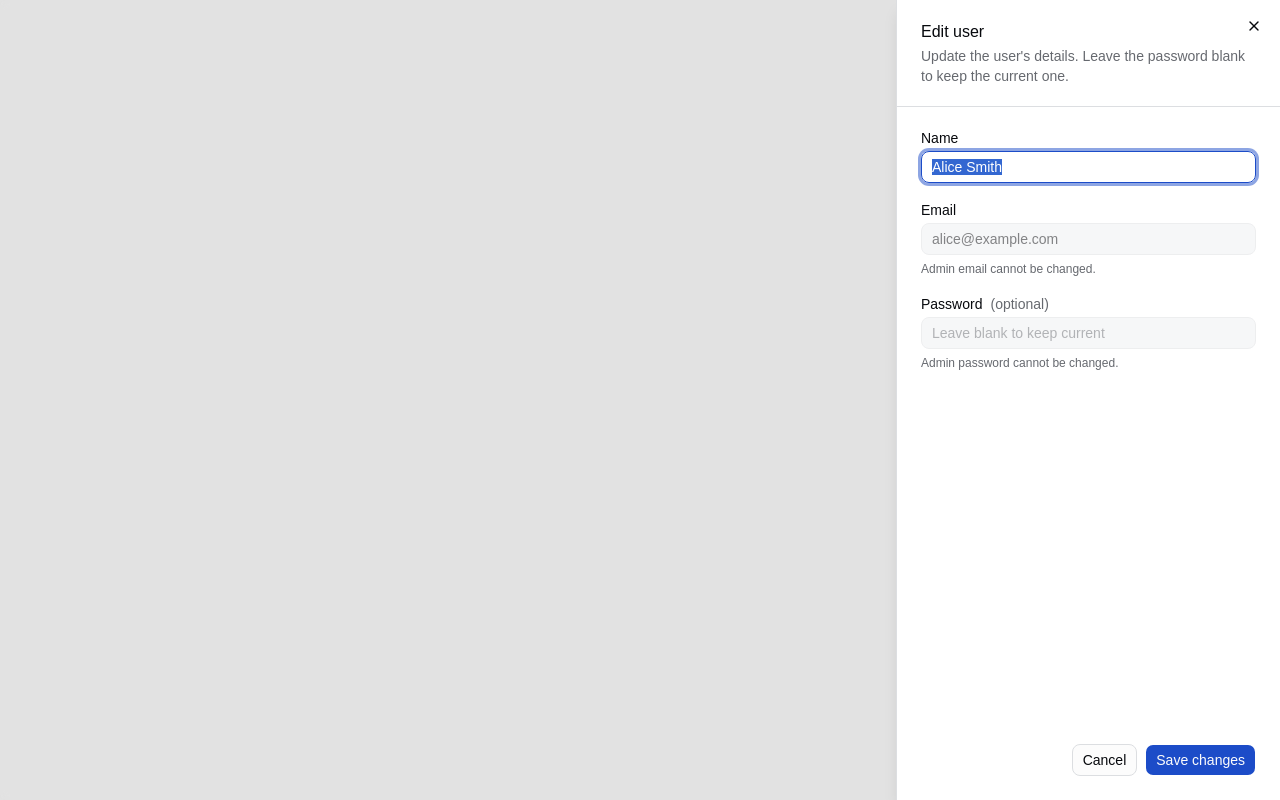
Scenario: UserDialog › edit mode (user provided) › validation › shows a required error when email is cleared
Clear the field labelled "Email" at (1088, 239), box [921,223,1256,255]
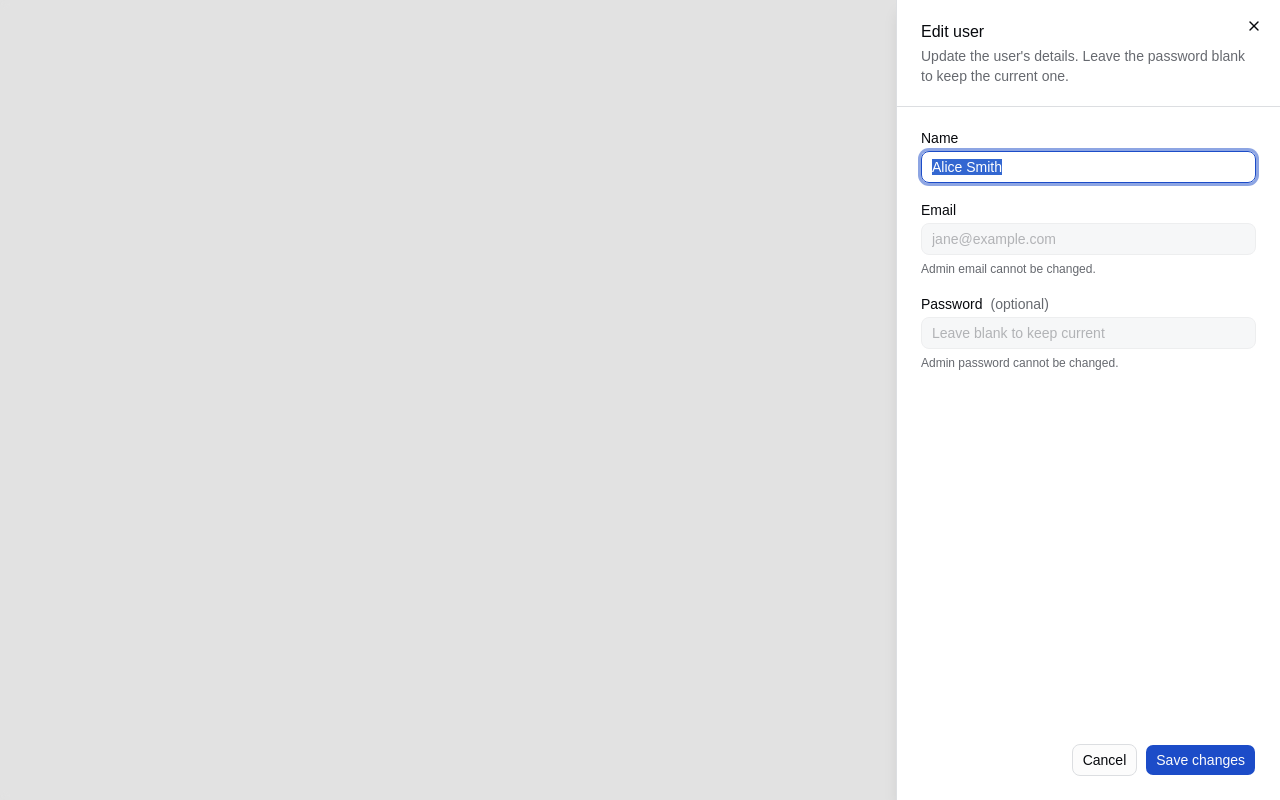
Click the button "Save changes" at (1201, 760), box [1145,744,1256,776]
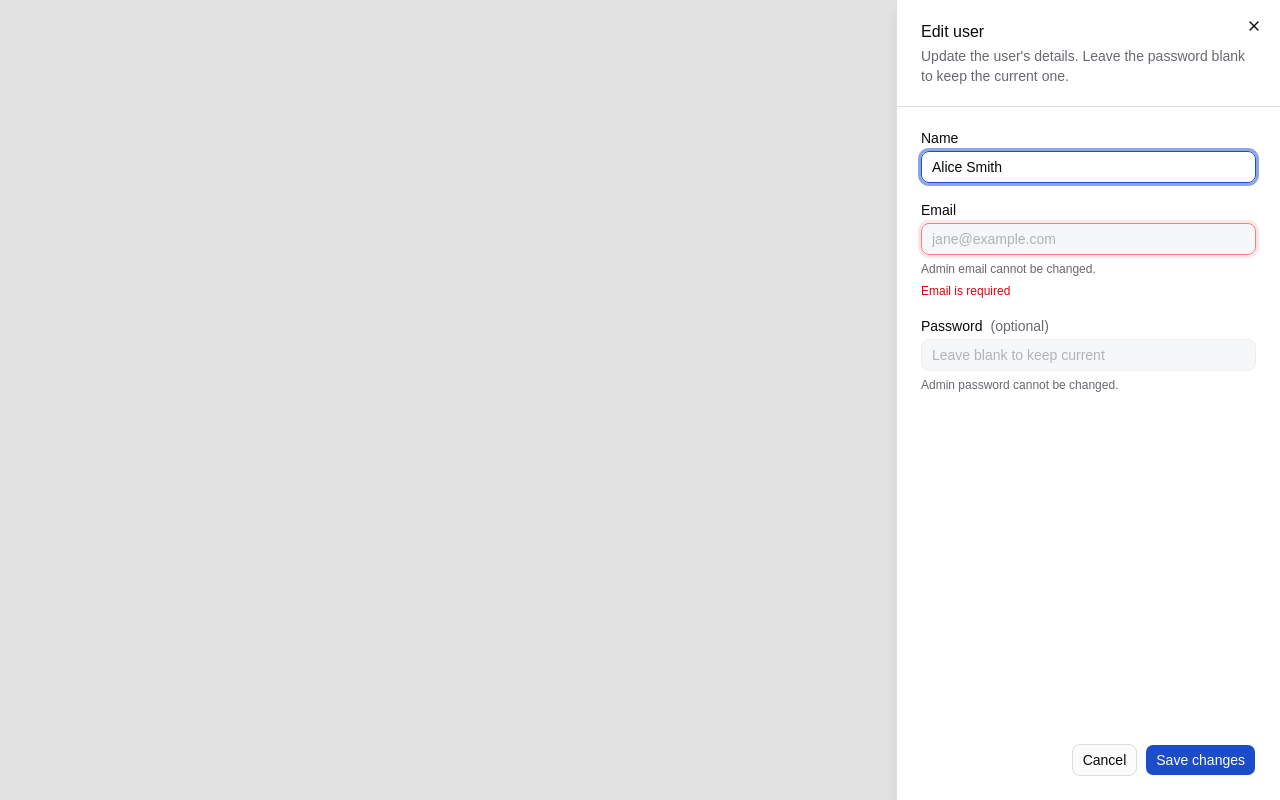
Result: the text "Email is required" is shown at [921,284,1010,298]
